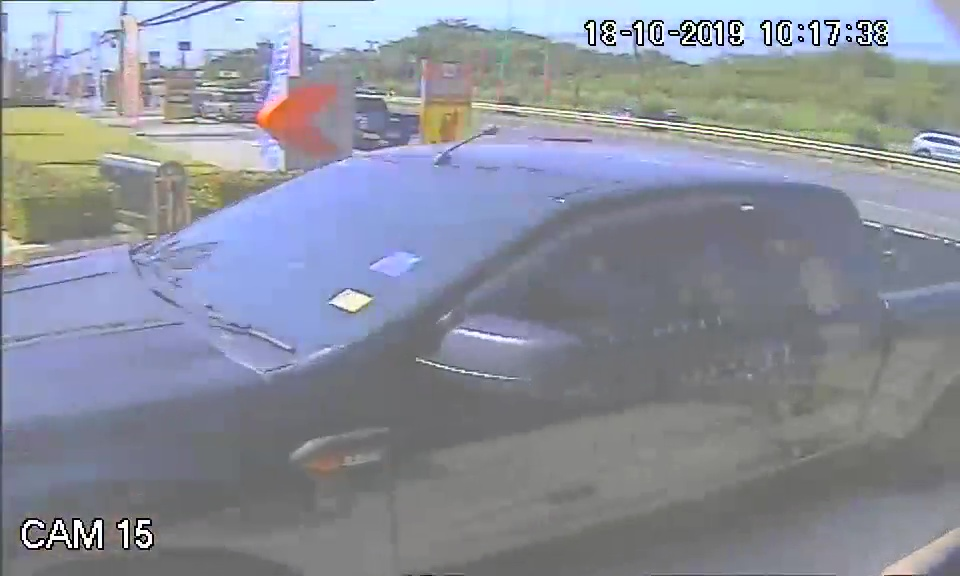pickup: (1, 141, 960, 539)
